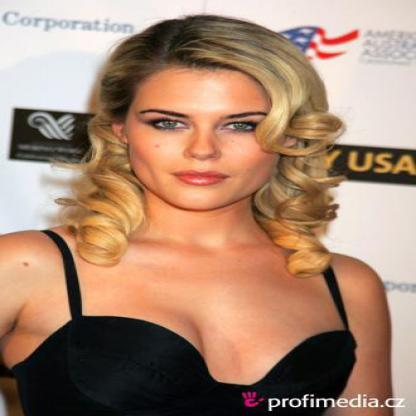long-hair: (59, 211, 352, 257)
